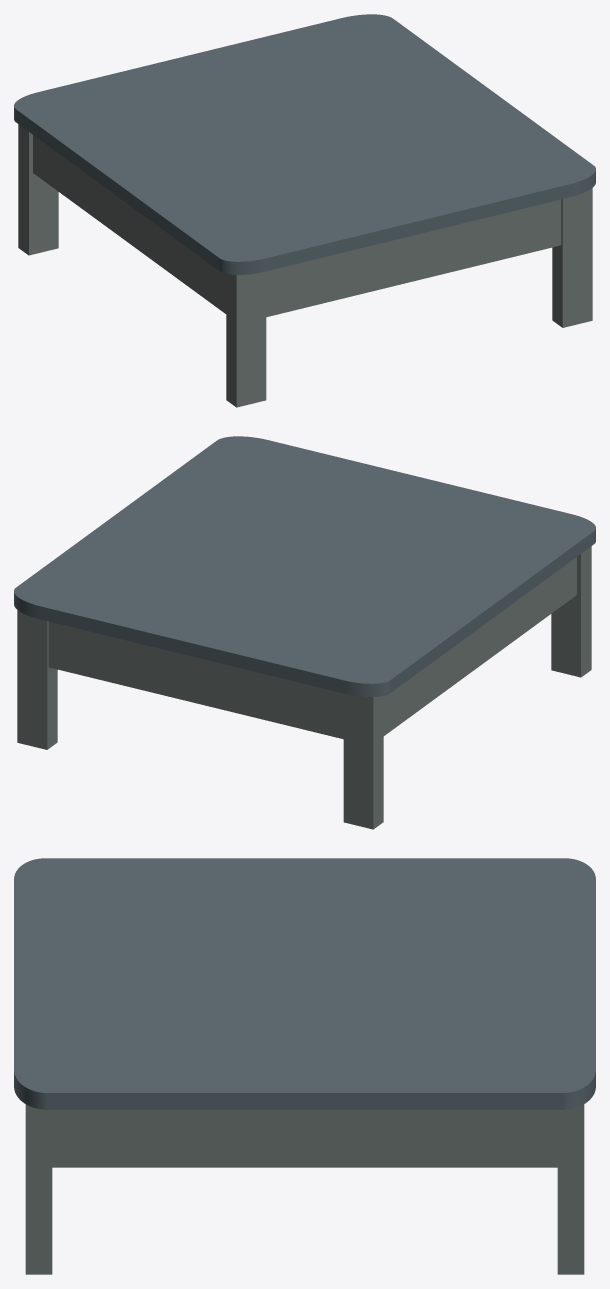
Rendered from Mesa.obj.
The picture shows the model from 3 angles, top to bottom: view 1: azimuth 30°, elevation 25°; view 2: azimuth 150°, elevation 25°; view 3: azimuth 270°, elevation 25°; orthographic projection. The views are drawn at different scales.
Visible parts, largest first — view 1: Mesa:deskWorn; view 2: Mesa:deskWorn; view 3: Mesa:deskWorn.
Boxes of the visible parts, x1,y1,x2,y2 form: Mesa:deskWorn: [14, 14, 595, 407]; Mesa:deskWorn: [14, 436, 595, 829]; Mesa:deskWorn: [14, 858, 595, 1274].
Size of the model in its own units: 3.9 by 1.45 by 4.08.
